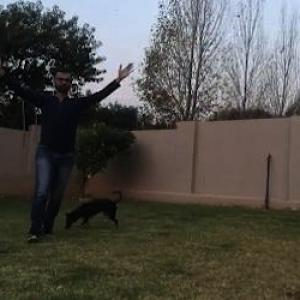takeoff: (2, 58, 140, 250)
